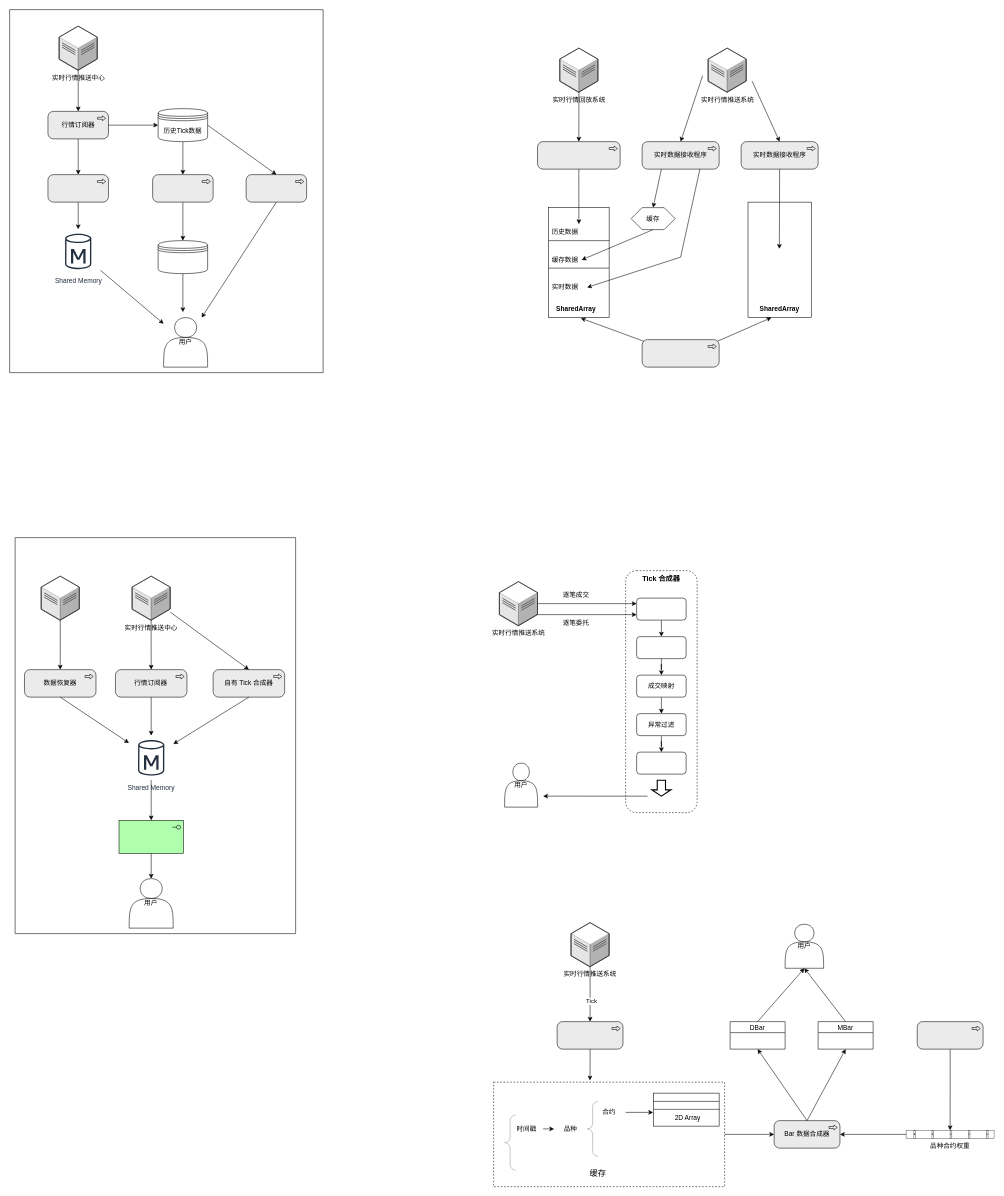
This 1004x1196 diagram has some shape labels left out. The centre of each missing label's shape, as x and y in pixels:
历史指数数据: (x=183, y=257)
历史数据合成程序: (x=182, y=188)
历史数据恢复程序: (x=578, y=155)
实时合成服务: (x=77, y=188)
实时行情回放中心: (x=60, y=598)
数据校对器: (x=680, y=353)
数据等待模块: (x=150, y=836)
权重计算器: (x=950, y=1035)
聚合接口: (x=276, y=188)
虚拟报价: (x=661, y=763)
订单簿重建: (x=661, y=647)
输出: (x=661, y=787)
重采样: (x=590, y=1035)
预处理: (x=661, y=609)
